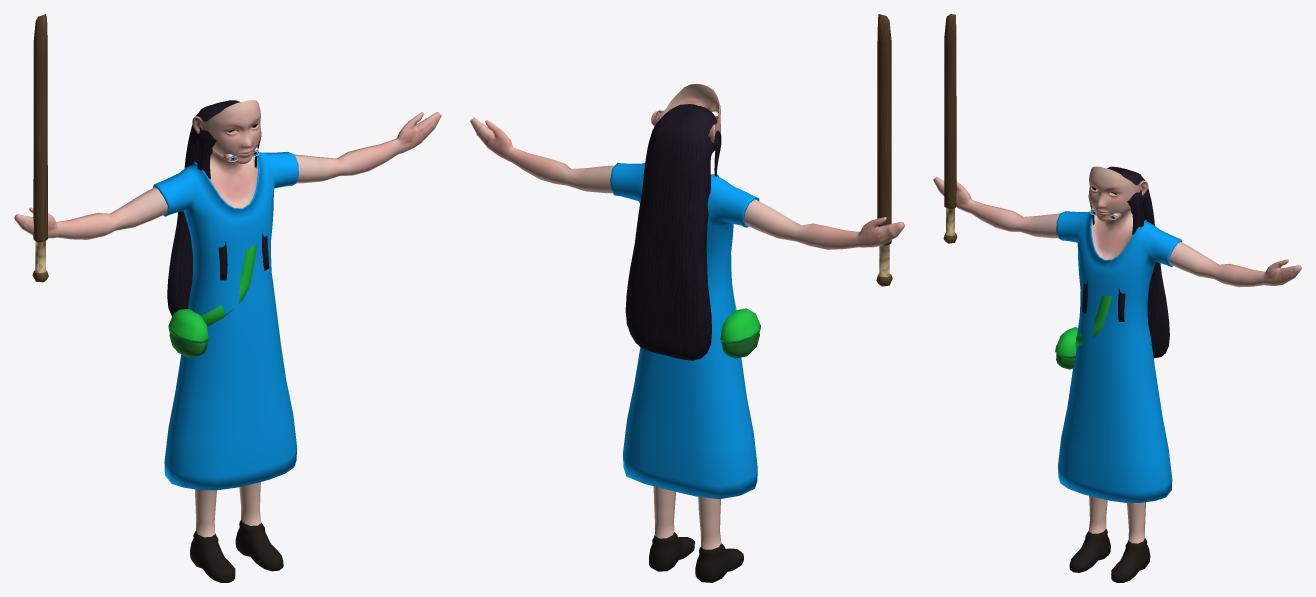
File: Irlana.fbx
The picture shows the model from 3 angles, left to right: view 1: azimuth 30°, elevation 25°; view 2: azimuth 150°, elevation 25°; view 3: azimuth 330°, elevation 25°; orthographic projection. The views are drawn at different scales.
Visible parts, largest first — view 1: Irlana:polySurface19, polySurface22, polySurface27, polySurface20, polySurface21, polySurface29; view 2: Irlana:polySurface19, polySurface27, polySurface22, polySurface20; view 3: Irlana:polySurface19, polySurface22, polySurface27, polySurface20, polySurface28, polySurface21.
Boxes of the visible parts, x1=… form: Irlana:polySurface19: x1=14, y1=100, x2=441, y2=582; polySurface22: x1=32, y1=14, x2=48, y2=282; polySurface27: x1=167, y1=100, x2=257, y2=316; polySurface20: x1=168, y1=309, x2=208, y2=357; polySurface21: x1=201, y1=244, x2=256, y2=326; polySurface29: x1=197, y1=131, x2=230, y2=280; Irlana:polySurface19: x1=470, y1=84, x2=904, y2=582; polySurface27: x1=625, y1=104, x2=719, y2=360; polySurface22: x1=876, y1=14, x2=892, y2=286; polySurface20: x1=720, y1=308, x2=760, y2=358; Irlana:polySurface19: x1=933, y1=166, x2=1301, y2=582; polySurface22: x1=943, y1=14, x2=957, y2=243; polySurface27: x1=1092, y1=166, x2=1169, y2=358; polySurface20: x1=1055, y1=327, x2=1077, y2=369; polySurface28: x1=1115, y1=194, x2=1143, y2=321; polySurface21: x1=1075, y1=296, x2=1112, y2=347.
Bounding box in the file's own units: 98.79 × 131 × 20.05.
Materials: 3 (3 with a texture image).
